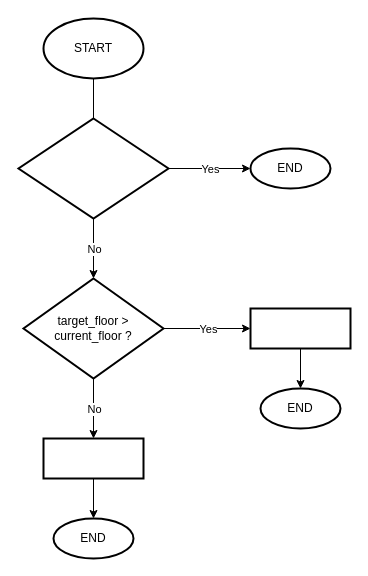
This 368x576 diagram has some shape labels left out. Each missing label, with the box of its shape:
current_state = MOVING_DOWN: (42, 437, 144, 479)
current_state = MOVING_UP: (249, 307, 351, 349)
target_floorは未設定 (TARGET_NOT_SET)?: (17, 117, 169, 219)
